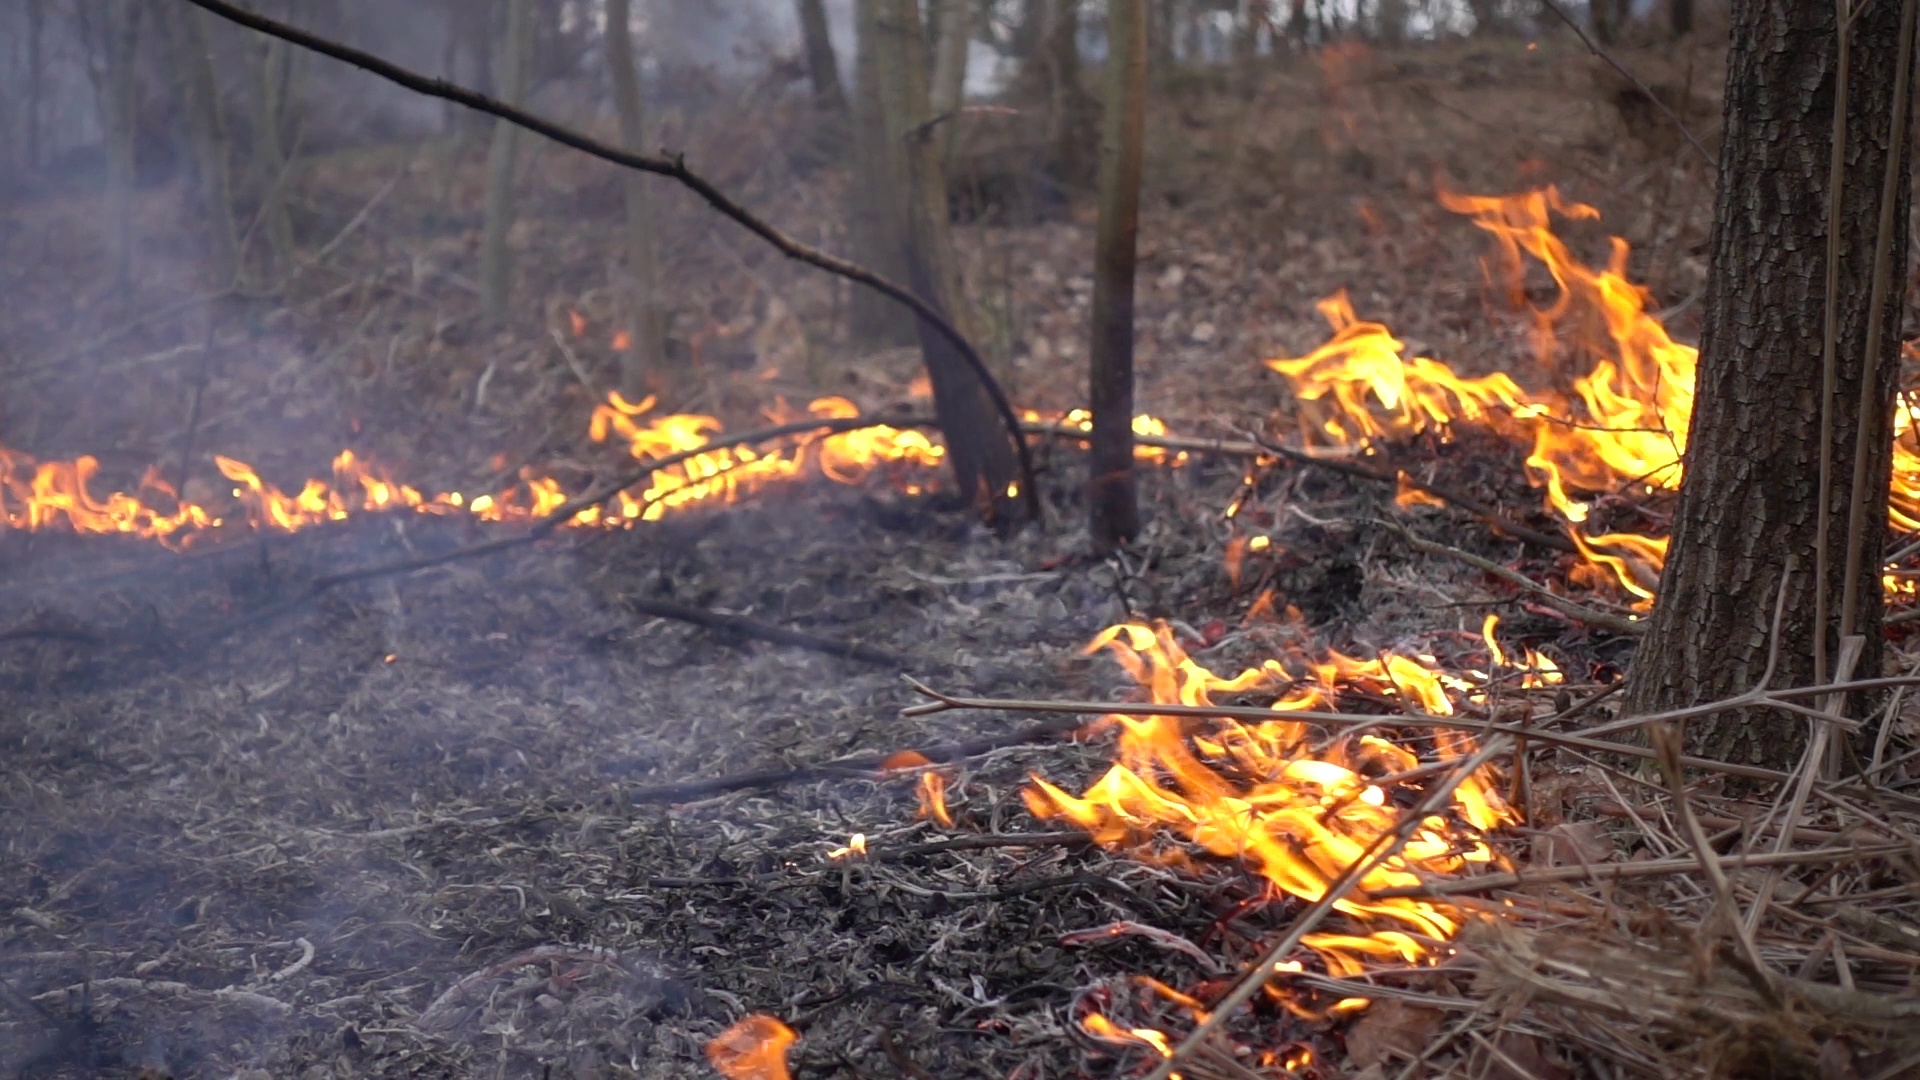fire: (1030, 636, 1507, 997), (1292, 204, 1700, 599), (582, 394, 943, 531), (1, 447, 419, 539), (464, 465, 562, 527), (1888, 398, 1920, 535), (1125, 410, 1172, 460)
